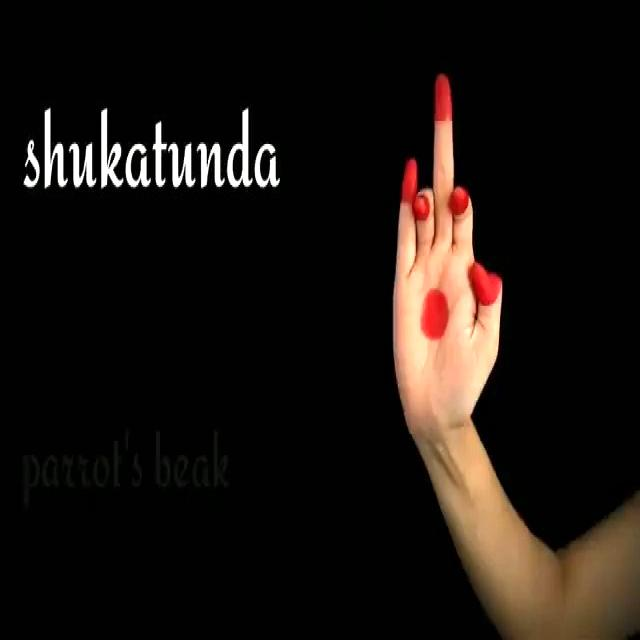Shukatunda: (372, 56, 528, 450)
text: (15, 97, 288, 211)
